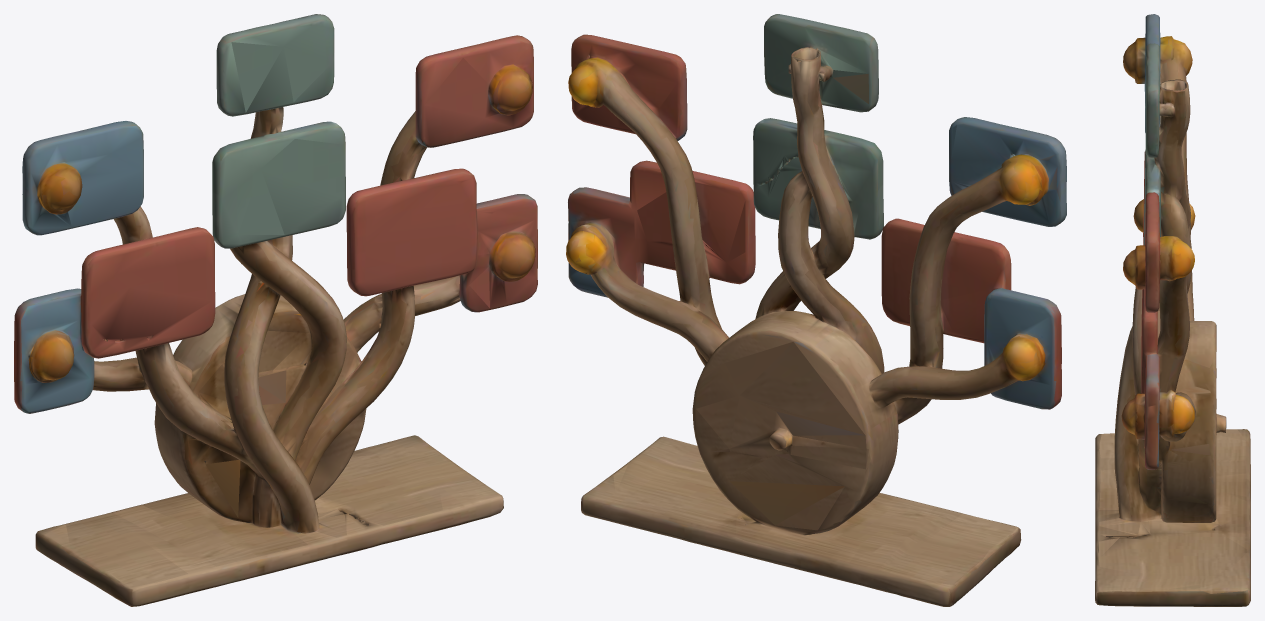
The model's file is sc-branch-cards.glb.
3 renders of one model, left to right at view 1: azimuth 30°, elevation 25°; view 2: azimuth 150°, elevation 25°; view 3: azimuth 270°, elevation 25°, orthographic. The views are drawn at different scales.
Parts seen in each view (by area): view 1: geometry_0; view 2: geometry_0; view 3: geometry_0.
Part boxes in pixels (box(x1,y1,x2,y2)): geometry_0: box(14, 14, 537, 606); geometry_0: box(566, 14, 1066, 606); geometry_0: box(1095, 14, 1250, 606).
Size of the model in its own units: 1 by 0.9753 by 0.2972.
Materials: 1 (1 with a texture image).
